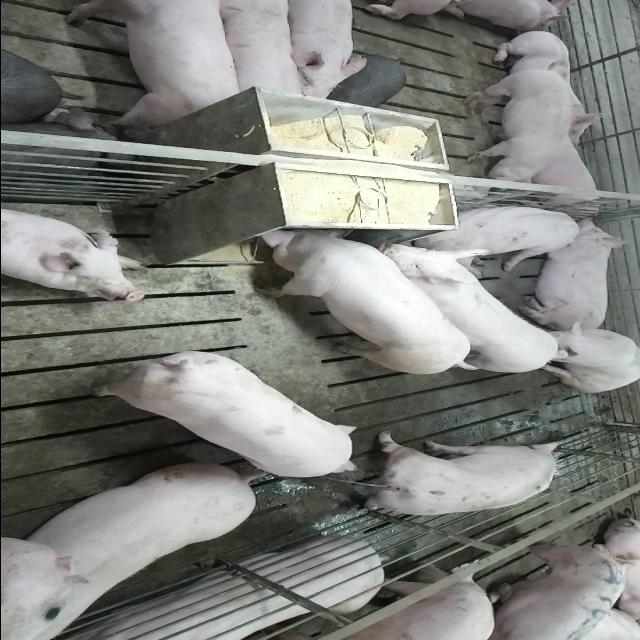Feeding: (250, 218, 476, 371)
Sitting: (419, 202, 582, 266), (526, 320, 640, 394)
Standing: (8, 459, 264, 635), (87, 346, 358, 478), (370, 243, 562, 377), (60, 1, 248, 131), (348, 432, 566, 518), (468, 542, 630, 640), (463, 61, 569, 192), (212, 3, 310, 103), (281, 0, 365, 104), (2, 42, 62, 122)
Sternal_lying: (482, 32, 610, 144), (2, 202, 149, 298), (514, 216, 628, 330), (520, 138, 605, 212)
